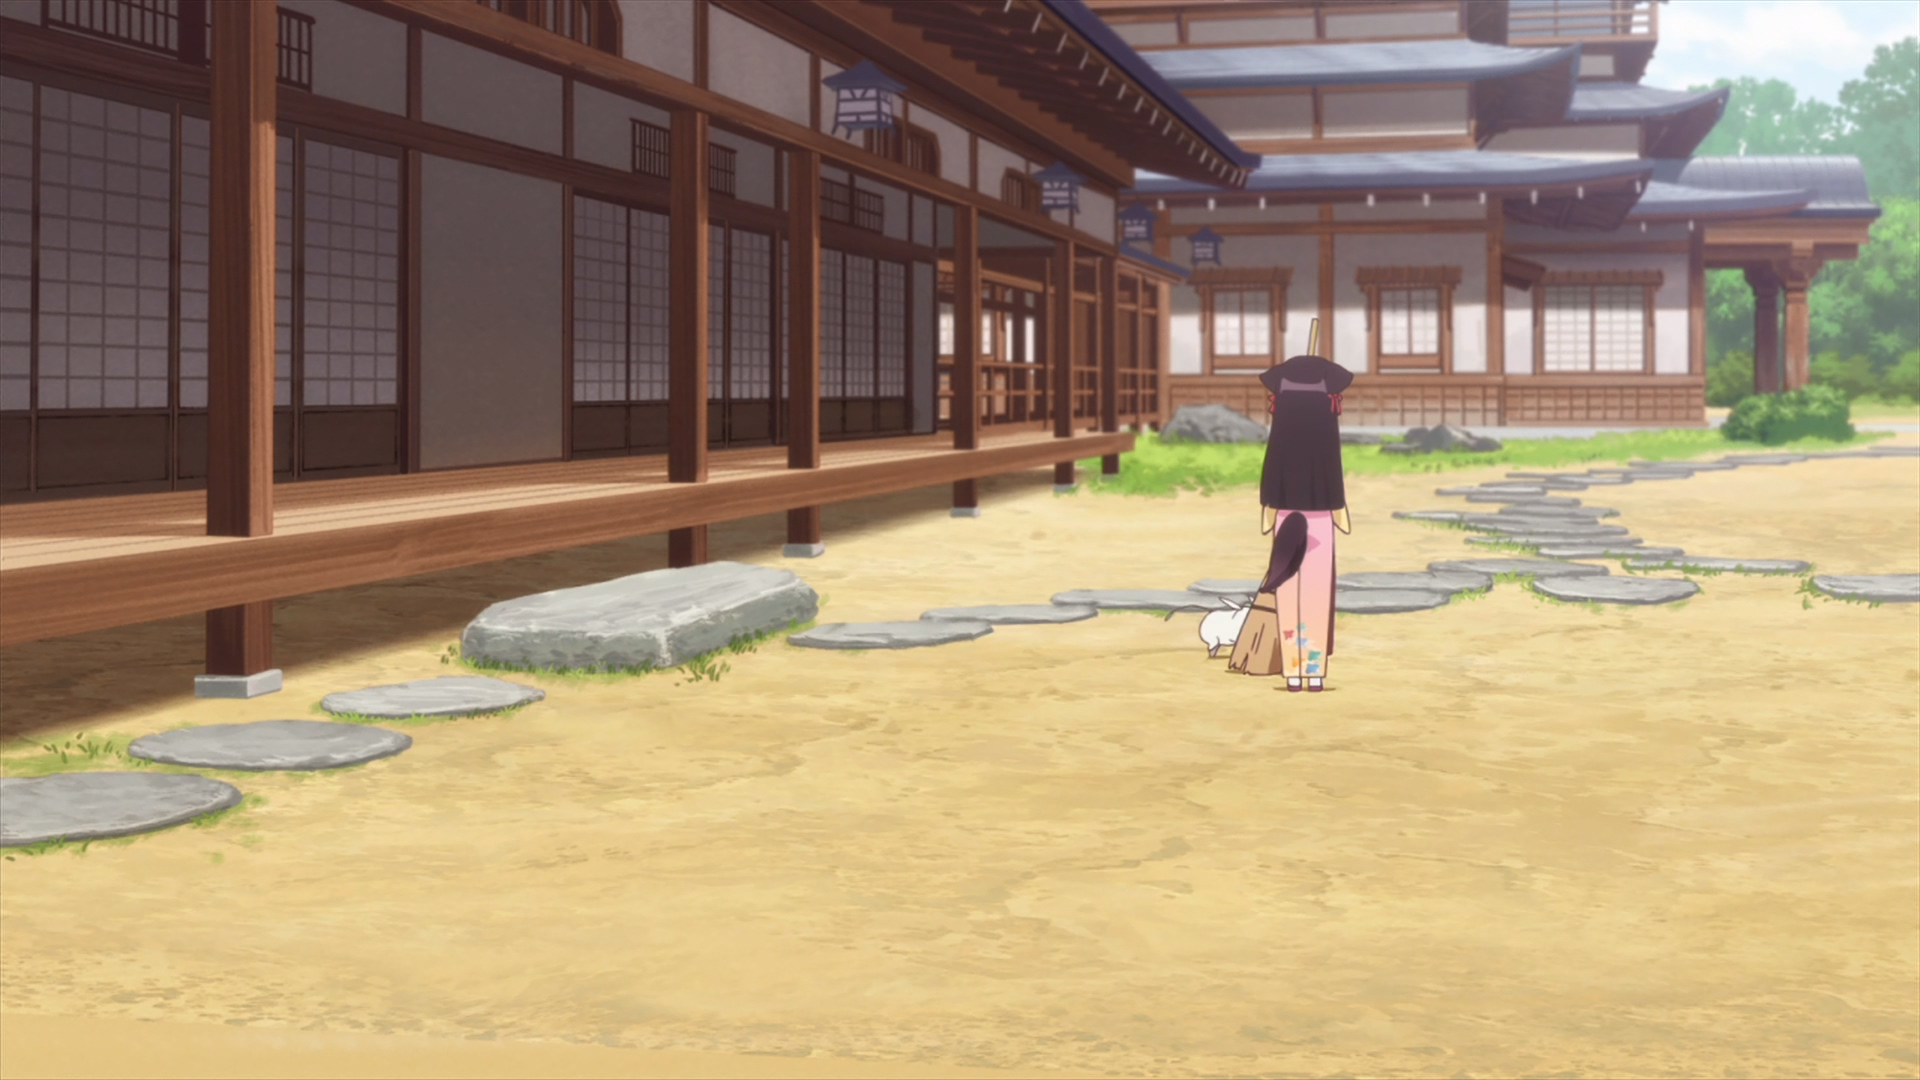樱: (1232, 353, 1354, 688)
